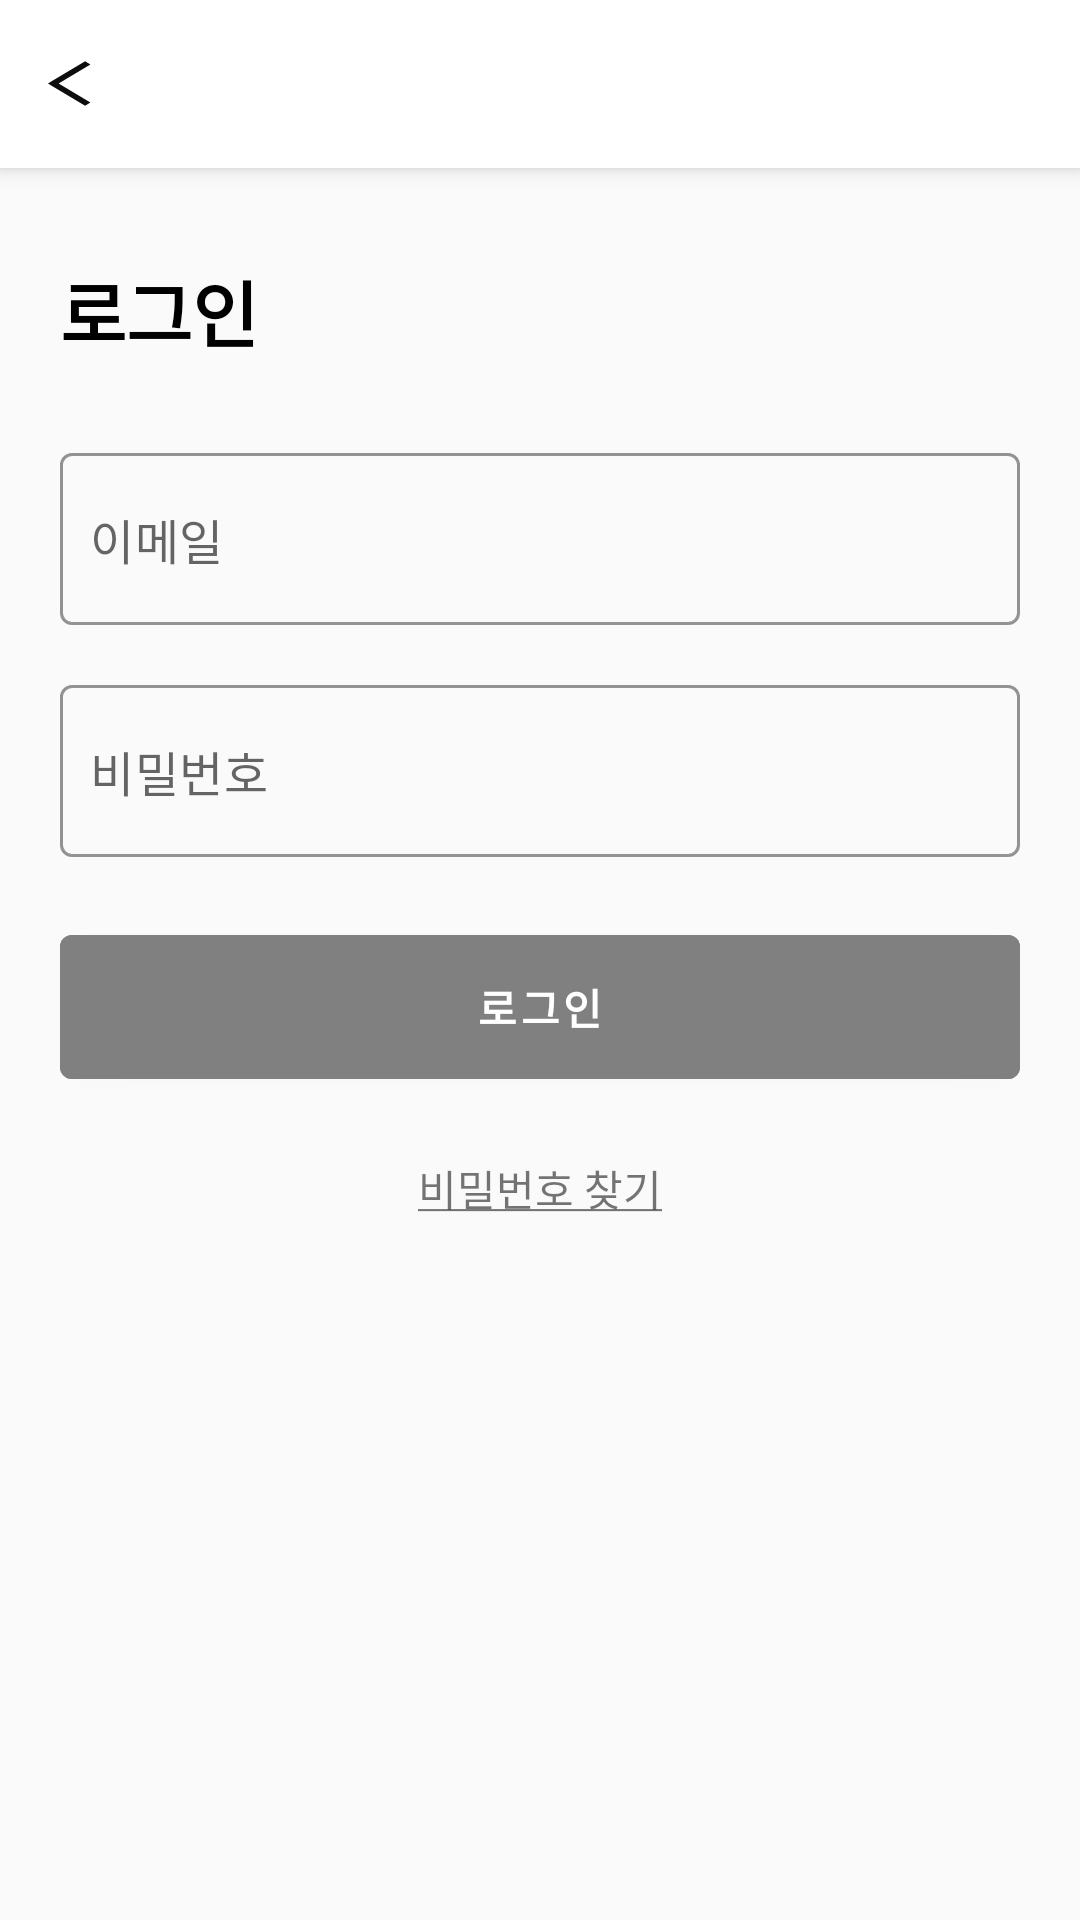

Where to tap for icons on this 1080 × 1920 app screen, as (x=x, y=y):
back: (x=69, y=83)
